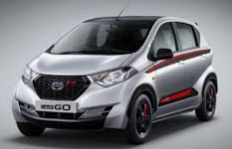car: (11, 15, 217, 144)
